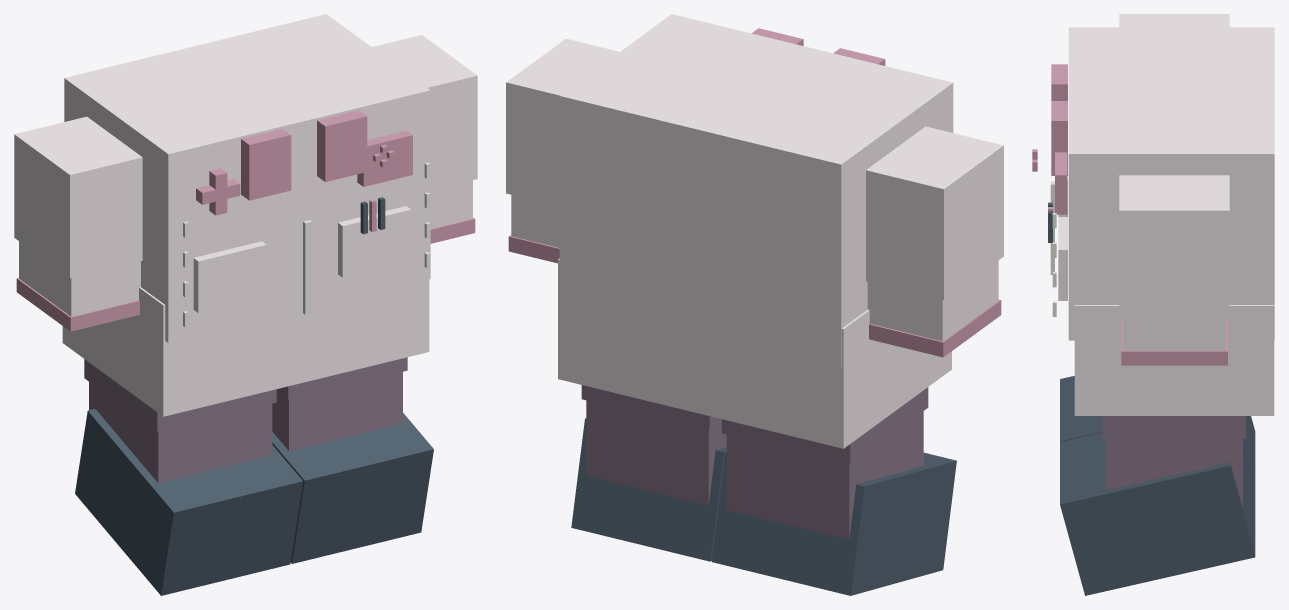
Rendered from pharmacy-rose.glb.
3 renders of one model, left to right at view 1: azimuth 30°, elevation 25°; view 2: azimuth 150°, elevation 25°; view 3: azimuth 270°, elevation 25°, orthographic. The views are drawn at different scales.
Parts seen in each view (by area): view 1: jacket, coat-tails, shoe-Right, upper-sleeve-Right, shoe-Left, lower-trouser-Right, upper-sleeve-Left, lower-trouser-Left, lower-sleeve-Right, pocket--1, pocket-1, lapel-1 (+10 smaller); view 2: jacket, coat-tails, upper-sleeve-Right, shoe-Right, lower-trouser-Right, lower-trouser-Left, upper-sleeve-Left, shoe-Left, lower-sleeve-Right, trouser-Right, cuff-Right, lower-sleeve-Left (+2 smaller); view 3: jacket, shoe-Left, coat-tails, upper-sleeve-Left, lower-trouser-Left, lower-sleeve-Left, trouser-Left, shoe-Right, cuff-Left, upper-sleeve-Right, lapel-1, pocket-1 (+2 smaller).
Part boxes in pixels (left/top/right/bottom): jacket: left=64, top=14, right=430, bottom=342; coat-tails: left=62, top=279, right=429, bottom=416; shoe-Right: left=75, top=409, right=302, bottom=595; upper-sleeve-Right: left=14, top=116, right=142, bottom=278; shoe-Left: left=272, top=413, right=433, bottom=563; lower-trouser-Right: left=89, top=382, right=272, bottom=482; upper-sleeve-Left: left=372, top=35, right=477, bottom=190; lower-trouser-Left: left=272, top=372, right=402, bottom=451; lower-sleeve-Right: left=19, top=241, right=140, bottom=316; pocket--1: left=193, top=241, right=266, bottom=312; pocket-1: left=338, top=206, right=411, bottom=277; lapel-1: left=317, top=110, right=367, bottom=181; jacket: left=559, top=14, right=953, bottom=367; coat-tails: left=558, top=258, right=951, bottom=448; upper-sleeve-Right: left=866, top=126, right=1003, bottom=300; shoe-Right: left=712, top=452, right=956, bottom=595; lower-trouser-Right: left=726, top=411, right=923, bottom=539; lower-trouser-Left: left=586, top=400, right=726, bottom=505; upper-sleeve-Left: left=506, top=38, right=619, bottom=206; shoe-Left: left=571, top=418, right=726, bottom=561; lower-sleeve-Right: left=867, top=260, right=998, bottom=341; trouser-Right: left=722, top=387, right=928, bottom=464; cuff-Right: left=869, top=299, right=1001, bottom=357; lower-sleeve-Left: left=511, top=195, right=559, bottom=247; jacket: left=1068, top=27, right=1274, bottom=340; shoe-Left: left=1060, top=432, right=1255, bottom=595; coat-tails: left=1074, top=305, right=1274, bottom=415; upper-sleeve-Left: left=1119, top=175, right=1229, bottom=312; lower-trouser-Left: left=1106, top=439, right=1242, bottom=507; lower-sleeve-Left: left=1123, top=312, right=1225, bottom=350; trouser-Left: left=1102, top=416, right=1246, bottom=438; shoe-Right: left=1060, top=376, right=1255, bottom=493; cuff-Left: left=1121, top=318, right=1227, bottom=365; upper-sleeve-Right: left=1119, top=14, right=1229, bottom=27; lapel-1: left=1051, top=101, right=1067, bottom=175; pocket-1: left=1058, top=217, right=1067, bottom=300.
Size of the model in its own units: 1.07 by 1.13 by 0.559.
